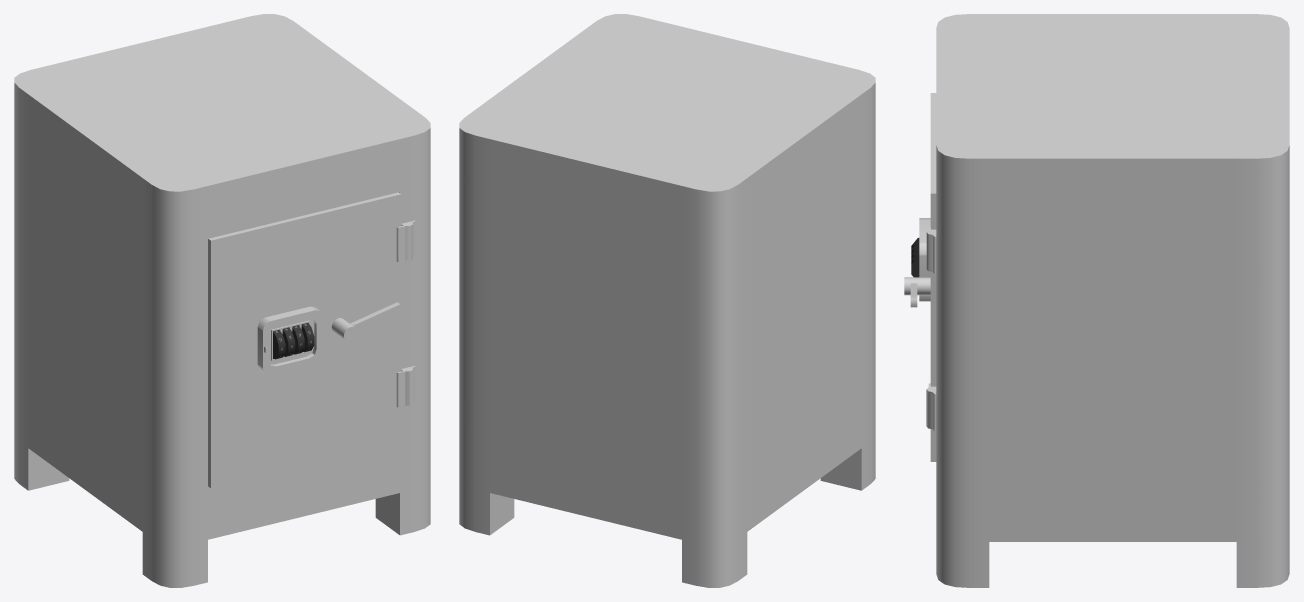
Rendered from safe texture.fbx.
The picture shows the model from 3 angles, left to right: view 1: azimuth 30°, elevation 25°; view 2: azimuth 150°, elevation 25°; view 3: azimuth 270°, elevation 25°; orthographic projection. The views are drawn at different scales.
Visible parts, largest first — view 1: Safe, Box011, Box019, Cylinder012, Handle; view 2: Safe; view 3: Safe, Box011, Cylinder012, Box019, Handle.
Part boxes in pixels (x1,y1,x2,y2): Safe: [14, 14, 430, 587]; Box011: [208, 192, 401, 488]; Box019: [257, 306, 322, 374]; Cylinder012: [396, 220, 415, 407]; Handle: [331, 302, 402, 341]; Safe: [459, 14, 875, 587]; Safe: [936, 14, 1289, 587]; Box011: [930, 93, 936, 461]; Cylinder012: [926, 226, 936, 431]; Box019: [919, 218, 930, 301]; Handle: [904, 277, 930, 307].
Bounding box in the file's own units: 13.44 × 18.59 × 15.12.
Materials: 1 (1 with a texture image).
